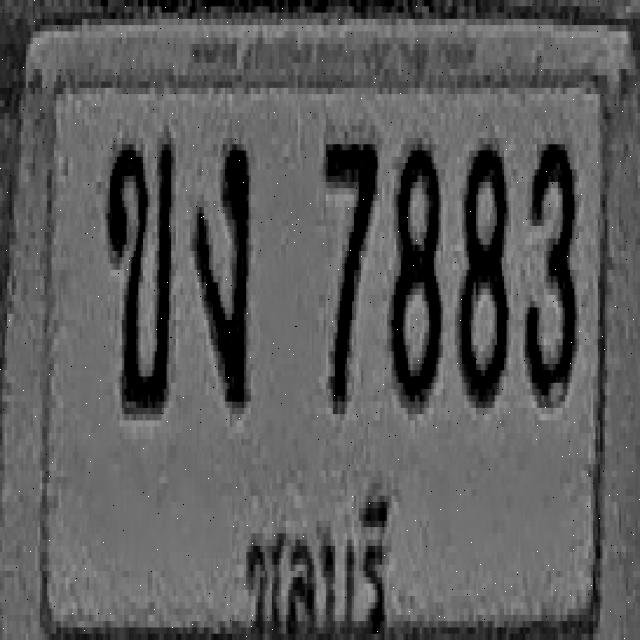11KhorKhai: (105, 135, 173, 411)
16NgorNgu: (193, 138, 250, 408)
3: (524, 138, 576, 402)
7: (323, 138, 378, 408)
8: (389, 135, 441, 405), (458, 138, 508, 402)
Chonburi: (237, 483, 389, 640)
